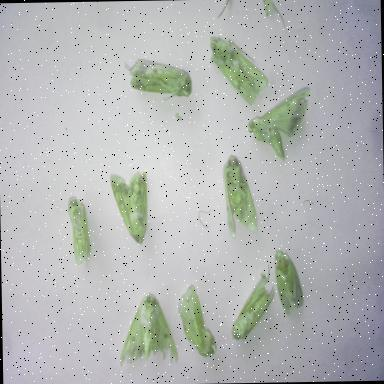abw: (244, 84, 316, 166), (114, 290, 181, 372), (207, 32, 272, 112), (228, 264, 278, 346), (122, 52, 196, 107), (218, 150, 262, 240), (108, 168, 154, 248), (174, 282, 218, 364), (272, 246, 308, 320), (65, 195, 95, 271)
